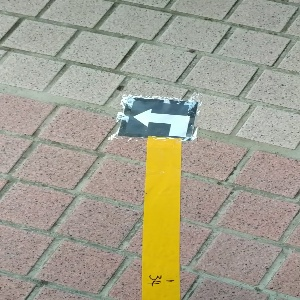left: (120, 96, 198, 140)
